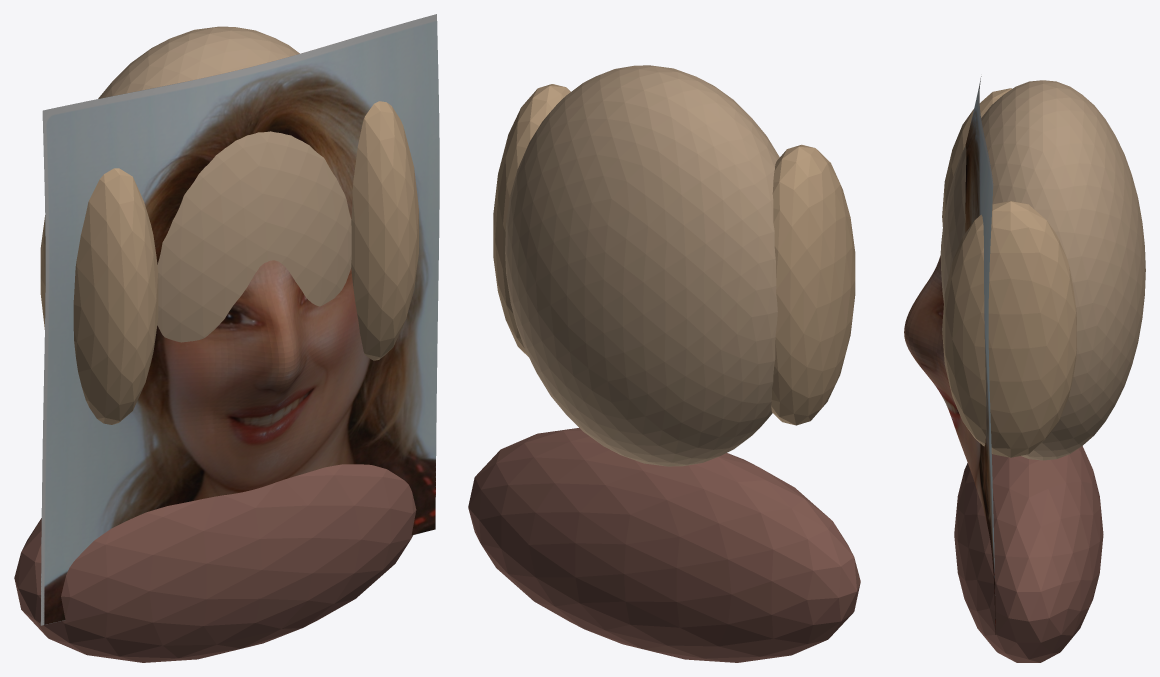
File: susan_polgar_face.glb
3 renders of one model, left to right at view 1: azimuth 30°, elevation 25°; view 2: azimuth 150°, elevation 25°; view 3: azimuth 270°, elevation 25°, orthographic. The views are drawn at different scales.
Visible parts, largest first — view 1: photo_projected_facial_surface, shoulder_volume, volumetric_back_of_head, world; view 2: volumetric_back_of_head, shoulder_volume, world; view 3: volumetric_back_of_head, world, shoulder_volume, photo_projected_facial_surface.
Boxes of the visible parts, left/top/right/bottom form: photo_projected_facial_surface: left=40, top=14, right=439, bottom=625; shoulder_volume: left=14, top=464, right=416, bottom=662; volumetric_back_of_head: left=98, top=26, right=351, bottom=342; world: left=40, top=101, right=418, bottom=424; volumetric_back_of_head: left=505, top=65, right=779, bottom=466; shoulder_volume: left=468, top=428, right=860, bottom=662; world: left=493, top=84, right=855, bottom=425; volumetric_back_of_head: left=940, top=80, right=1145, bottom=460; world: left=942, top=88, right=1076, bottom=457; shoulder_volume: left=954, top=446, right=1103, bottom=662; photo_projected_facial_surface: left=904, top=76, right=995, bottom=634.
Size of the model in its own units: 2.04 by 2.95 by 1.2.
1 material, 1 textured.
